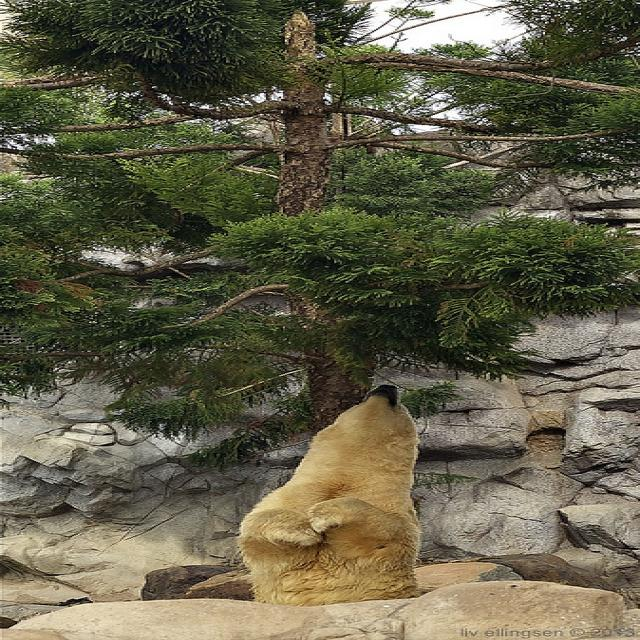Bear: (233, 384, 452, 606)
